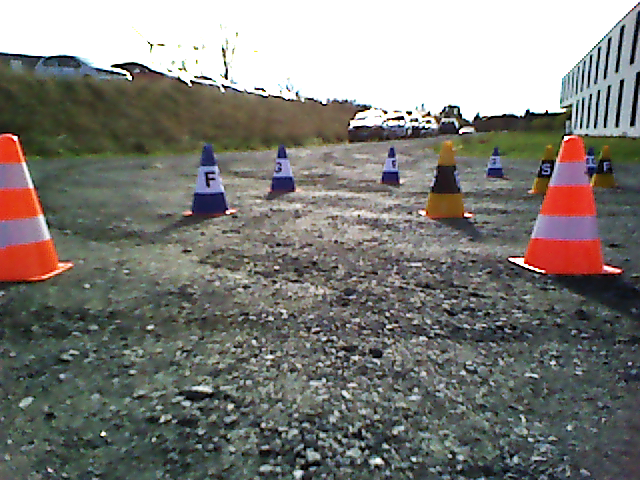bluecone: (191, 146, 225, 212), (271, 147, 294, 190), (381, 148, 398, 182), (486, 148, 505, 176)
orangeconesmall: (524, 138, 616, 276), (1, 131, 66, 278)
yellowcone: (426, 141, 464, 215), (592, 145, 614, 187), (533, 146, 552, 191)
